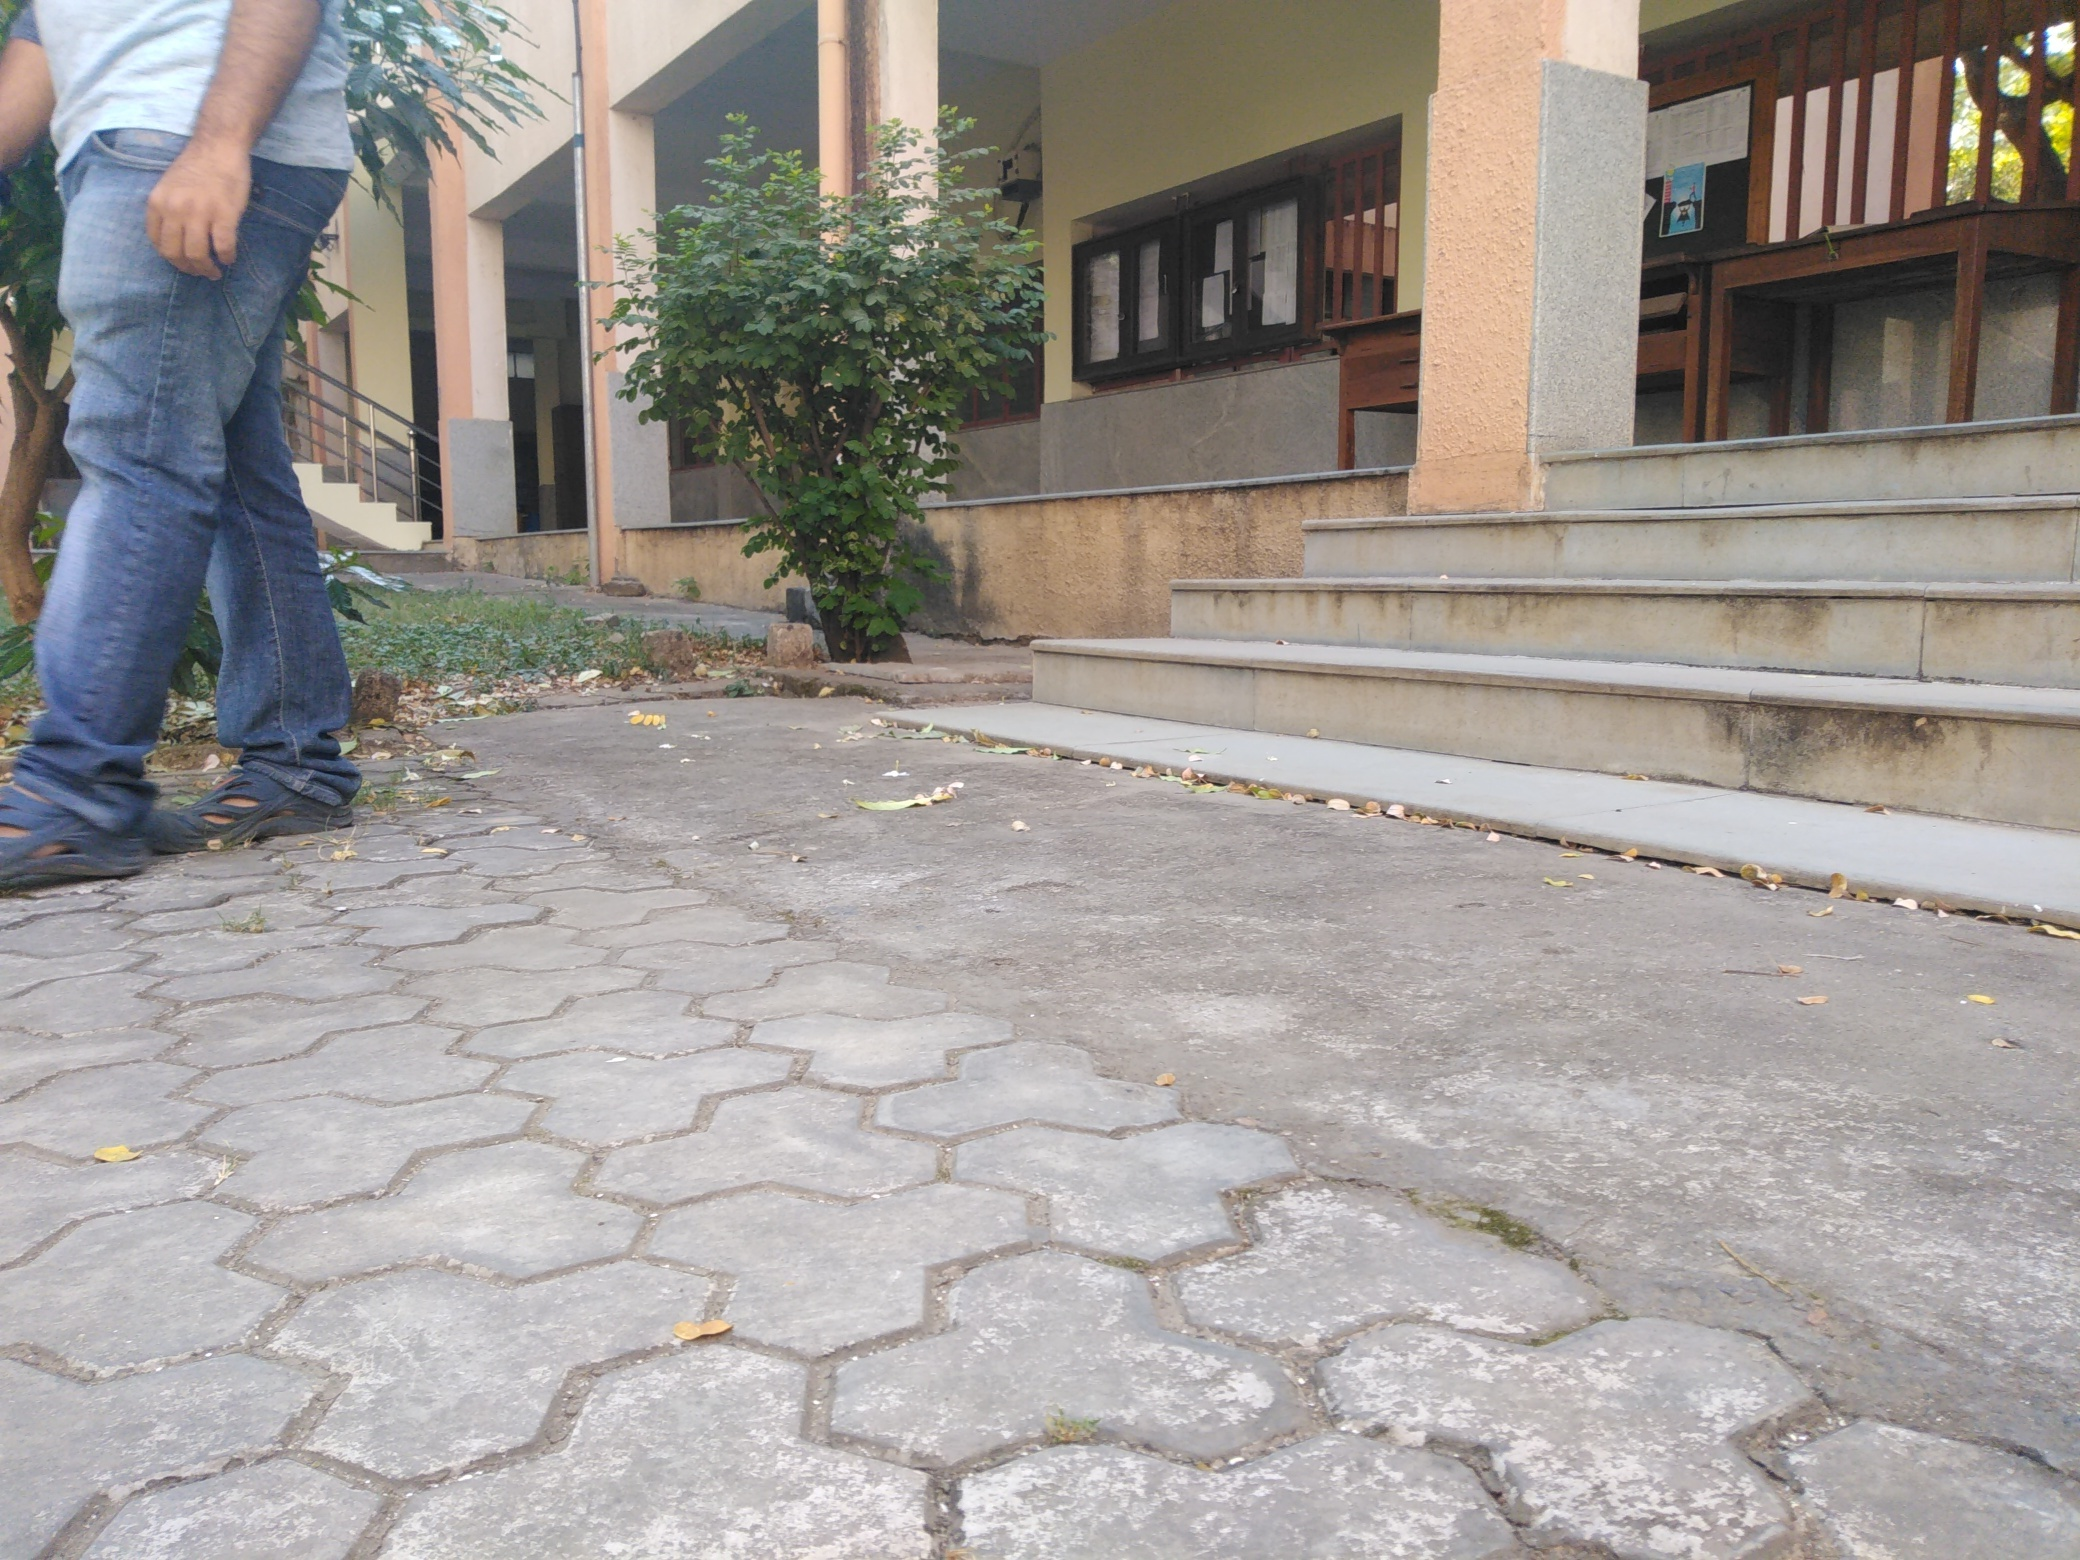stairs_up: (1043, 405, 2072, 814)
